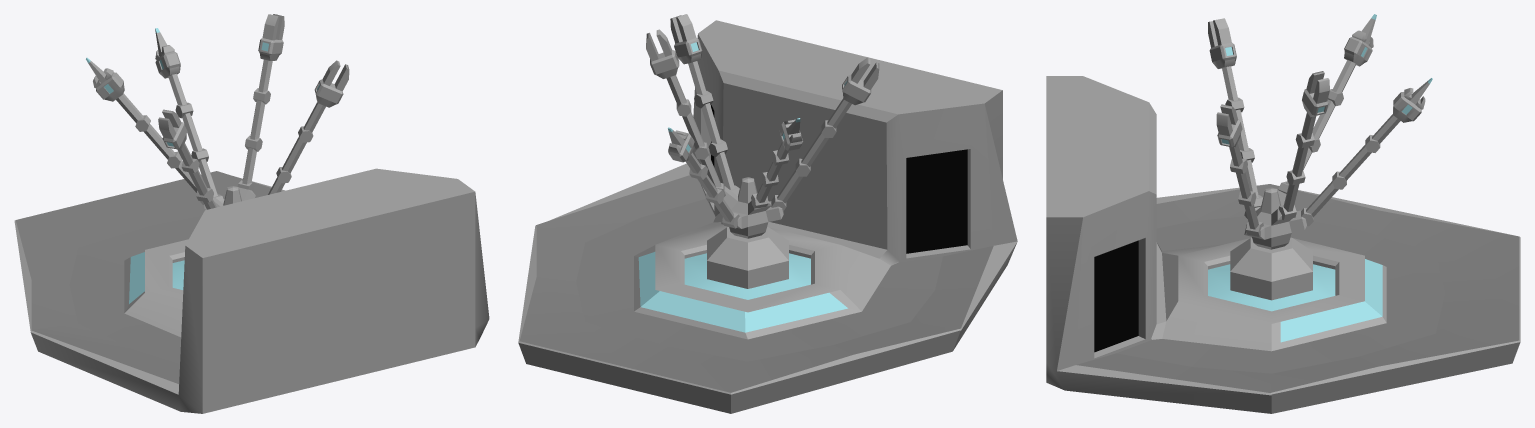
File: Static Assembler.fbx
The picture shows the model from 3 angles, left to right: view 1: azimuth 30°, elevation 25°; view 2: azimuth 150°, elevation 25°; view 3: azimuth 270°, elevation 25°; orthographic projection. The views are drawn at different scales.
Visible parts, largest first — view 1: static_assembly; view 2: static_assembly; view 3: static_assembly.
Part boxes in pixels (box(x1,y1,x2,y2)): static_assembly: box(14, 14, 489, 413); static_assembly: box(518, 14, 1017, 413); static_assembly: box(1046, 14, 1520, 413).
Bounding box in the file's own units: 105 × 66.59 × 100.
